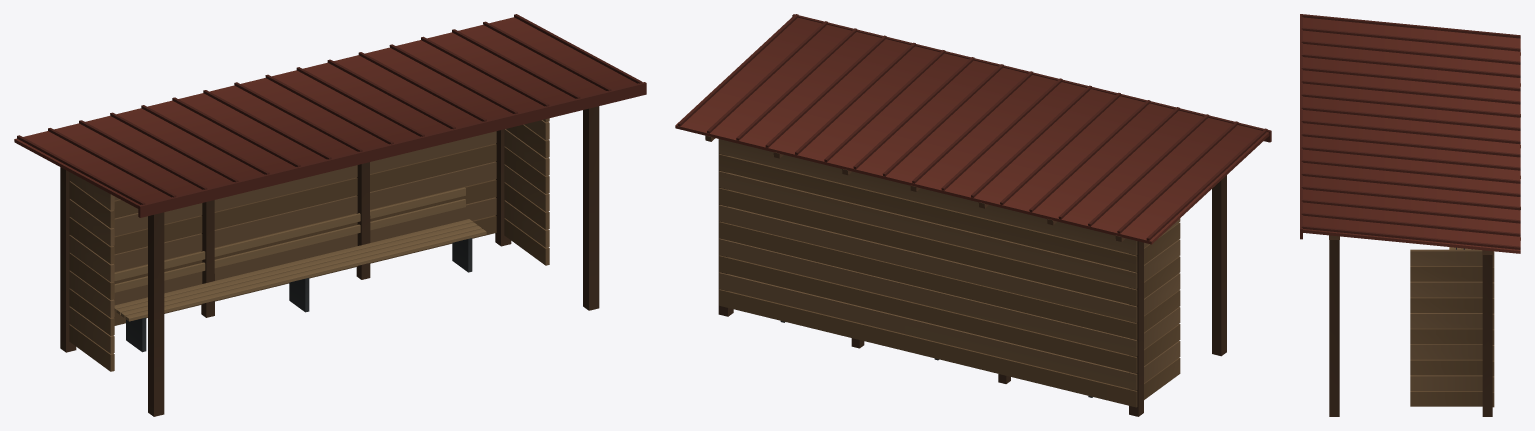
The model's file is station-shelter.glb.
The picture shows the model from 3 angles, left to right: view 1: azimuth 30°, elevation 25°; view 2: azimuth 150°, elevation 25°; view 3: azimuth 270°, elevation 25°; orthographic projection. The views are drawn at different scales.
Visible parts, largest first — view 1: station-shelter.lod0; view 2: station-shelter.lod0; view 3: station-shelter.lod0.
Boxes of the visible parts, x1,y1,x2,y2 form: station-shelter.lod0: (14,14,646,416); station-shelter.lod0: (675,14,1271,416); station-shelter.lod0: (1300,14,1520,416).
Size of what is drawn, in the model's own units: 6.52 by 2.85 by 2.82.
